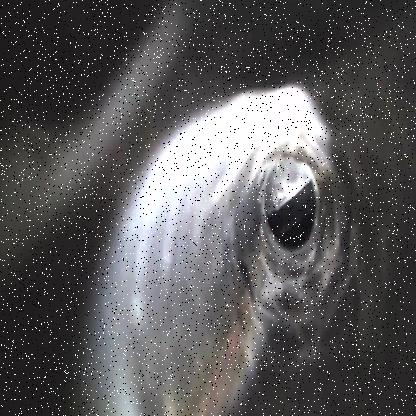Crack: (222, 84, 356, 338)
